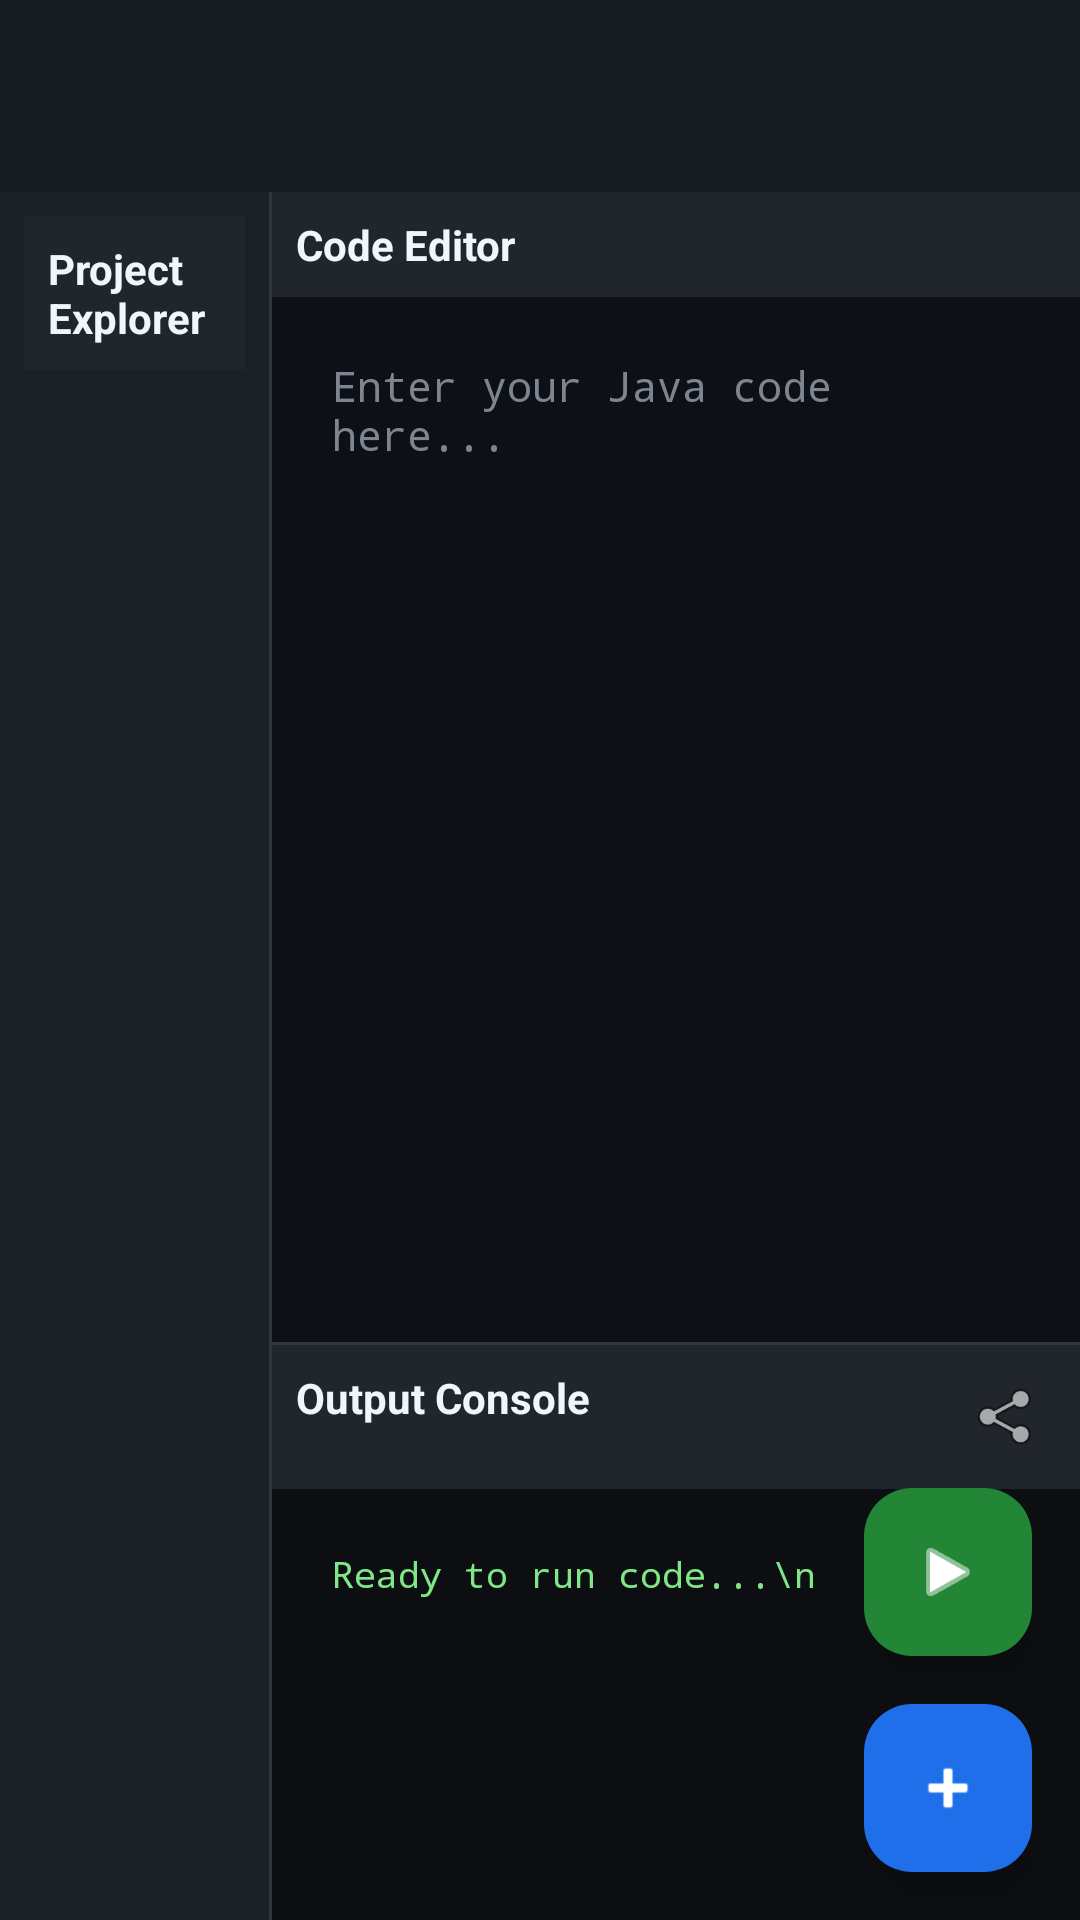

Screen size 1080x1920. Icon name, then its center in pixels as [x,y]:
add: [948,1788]
play: [948,1572]
